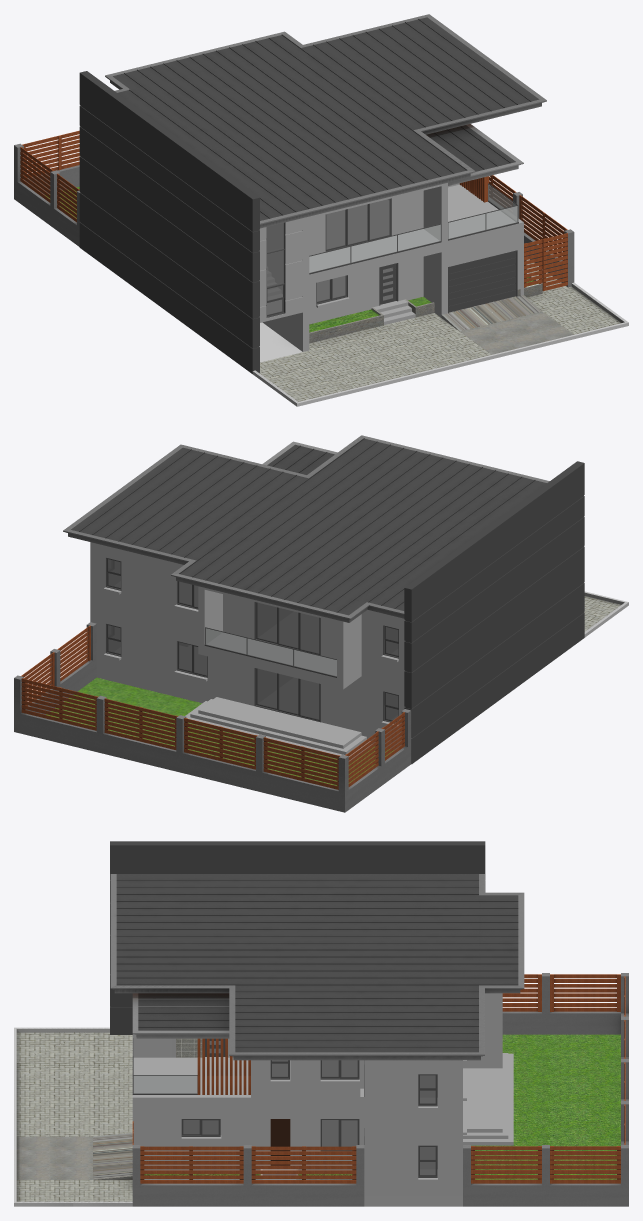
File: 2_floor_exterior_design.glb
The picture shows the model from 3 angles, top to bottom: view 1: azimuth 30°, elevation 25°; view 2: azimuth 150°, elevation 25°; view 3: azimuth 270°, elevation 25°; orthographic projection. The views are drawn at different scales.
Visible parts, largest first — view 1: Object001_Object001_mtl_0_33, Object012_Object012_mtl_0_21, Object012_Object012_mtl_0.001_63, Object014_Object014_mtl_0_3, Object011_Object011_mtl_0_18, Object002_Object002_mtl_0.001_36, Object008_Object008_mtl_0.001_48, Object013_Object013_mtl_0.001_66, Object013_Object013_mtl_0_0, Object008_Object008_mtl_0_27, Object002_Object002_mtl_0_9, Object006_Object006_mtl_0_54 (+2 smaller); view 2: Object001_Object001_mtl_0_33, Object012_Object012_mtl_0_21, Object013_Object013_mtl_0_0, Object014_Object014_mtl_0_3, Object008_Object008_mtl_0.001_48, Object001_Object001_mtl_0.001_42, Object002_Object002_mtl_0.001_36, Object011_Object011_mtl_0_18, Object002_Object002_mtl_0_9, Object011_Object011_mtl_0.001_60, Object008_Object008_mtl_0_27, Object006_Object006_mtl_0_54 (+2 smaller); view 3: Object001_Object001_mtl_0_33, Object014_Object014_mtl_0_3, Object002_Object002_mtl_0.001_36, Object008_Object008_mtl_0.001_48, Object012_Object012_mtl_0.001_63, Object001_Object001_mtl_0.001_42, Object011_Object011_mtl_0.001_60, Object011_Object011_mtl_0_18, Object013_Object013_mtl_0.001_66, Object013_Object013_mtl_0_0, Object002_Object002_mtl_0_9, Object008_Object008_mtl_0_27 (+3 smaller).
Part boxes in pixels (x1,y1,x2,y2): Object001_Object001_mtl_0_33: (113, 17, 539, 220); Object012_Object012_mtl_0_21: (79, 71, 259, 373); Object012_Object012_mtl_0.001_63: (252, 259, 628, 406); Object014_Object014_mtl_0_3: (259, 183, 523, 351); Object011_Object011_mtl_0_18: (80, 71, 259, 373); Object002_Object002_mtl_0.001_36: (105, 14, 546, 228); Object008_Object008_mtl_0.001_48: (20, 130, 567, 291); Object013_Object013_mtl_0.001_66: (259, 273, 542, 401); Object013_Object013_mtl_0_0: (262, 183, 523, 338); Object008_Object008_mtl_0_27: (266, 183, 518, 317); Object002_Object002_mtl_0_9: (267, 199, 393, 314); Object006_Object006_mtl_0_54: (309, 184, 517, 272); Object001_Object001_mtl_0_33: (71, 438, 546, 615); Object012_Object012_mtl_0_21: (404, 495, 584, 764); Object013_Object013_mtl_0_0: (96, 546, 401, 749); Object014_Object014_mtl_0_3: (90, 542, 404, 761); Object008_Object008_mtl_0.001_48: (21, 625, 404, 789); Object001_Object001_mtl_0.001_42: (14, 622, 411, 812); Object002_Object002_mtl_0.001_36: (63, 435, 549, 622); Object011_Object011_mtl_0_18: (405, 461, 584, 707); Object002_Object002_mtl_0_9: (108, 559, 398, 721); Object011_Object011_mtl_0.001_60: (46, 677, 393, 785); Object008_Object008_mtl_0_27: (105, 558, 398, 723); Object006_Object006_mtl_0_54: (205, 628, 336, 676); Object001_Object001_mtl_0_33: (116, 874, 518, 1052); Object014_Object014_mtl_0_3: (132, 1038, 513, 1195); Object002_Object002_mtl_0.001_36: (110, 874, 524, 1060); Object008_Object008_mtl_0.001_48: (132, 974, 625, 1183); Object012_Object012_mtl_0.001_63: (14, 1027, 202, 1206); Object001_Object001_mtl_0.001_42: (132, 973, 628, 1206); Object011_Object011_mtl_0.001_60: (144, 1034, 620, 1179); Object011_Object011_mtl_0_18: (110, 841, 484, 1034); Object013_Object013_mtl_0.001_66: (16, 1032, 352, 1179); Object013_Object013_mtl_0_0: (132, 993, 502, 1206); Object002_Object002_mtl_0_9: (183, 1041, 435, 1175); Object008_Object008_mtl_0_27: (132, 1038, 437, 1177).
Size of the model in its own units: 16.87 by 8.08 by 23.73.
Materials: 16 (7 with a texture image).
